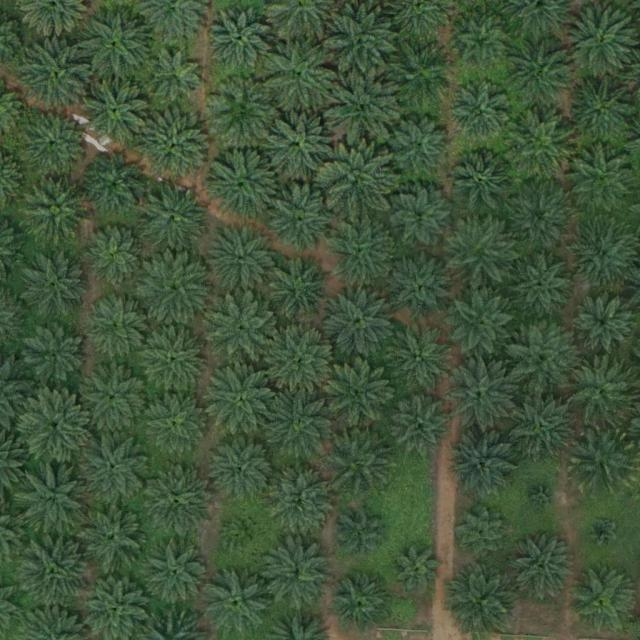Healthy: (140, 111, 211, 182), (325, 7, 396, 78), (566, 7, 637, 78), (567, 75, 638, 146), (447, 360, 518, 431), (449, 432, 520, 503), (266, 465, 337, 536), (207, 365, 278, 436), (449, 565, 520, 636), (569, 425, 639, 496), (19, 110, 89, 181), (20, 175, 90, 246), (81, 8, 152, 78), (209, 148, 280, 218), (267, 40, 337, 111), (323, 145, 393, 216), (387, 41, 457, 112), (507, 36, 577, 107), (507, 115, 577, 186), (505, 182, 575, 253), (568, 146, 638, 217), (570, 221, 640, 292), (444, 216, 514, 287), (447, 290, 518, 360), (384, 320, 454, 391), (269, 184, 339, 255), (269, 327, 339, 398), (207, 224, 277, 295), (209, 297, 280, 367), (142, 326, 212, 397), (144, 467, 214, 538), (81, 365, 151, 436), (83, 434, 153, 505), (19, 252, 89, 323), (21, 392, 92, 462), (19, 462, 90, 532), (20, 536, 90, 607), (79, 502, 149, 573), (202, 569, 273, 639), (262, 542, 333, 612), (507, 534, 577, 605), (569, 566, 639, 637), (20, 42, 90, 112), (82, 74, 152, 144), (209, 77, 279, 147), (266, 107, 336, 177), (327, 74, 397, 144), (567, 357, 637, 427), (505, 323, 575, 393), (507, 390, 577, 460), (327, 219, 397, 289), (325, 288, 395, 358), (328, 358, 398, 428), (327, 425, 397, 495), (265, 387, 335, 457), (139, 184, 209, 254), (142, 255, 212, 325), (145, 49, 208, 112), (389, 114, 452, 177), (390, 189, 453, 252), (390, 254, 453, 317), (83, 153, 145, 216), (208, 7, 270, 70), (453, 153, 515, 216), (573, 293, 635, 356), (512, 256, 574, 319), (391, 396, 453, 459), (272, 258, 334, 321), (212, 438, 275, 500), (145, 395, 208, 457), (84, 227, 146, 290), (147, 543, 209, 606), (450, 82, 512, 144), (87, 299, 149, 361), (26, 326, 88, 388), (454, 18, 509, 73), (334, 577, 389, 632), (457, 508, 511, 563), (340, 514, 387, 562), (394, 546, 441, 593)
Small: (226, 516, 265, 555), (529, 482, 560, 514), (588, 517, 619, 549)
